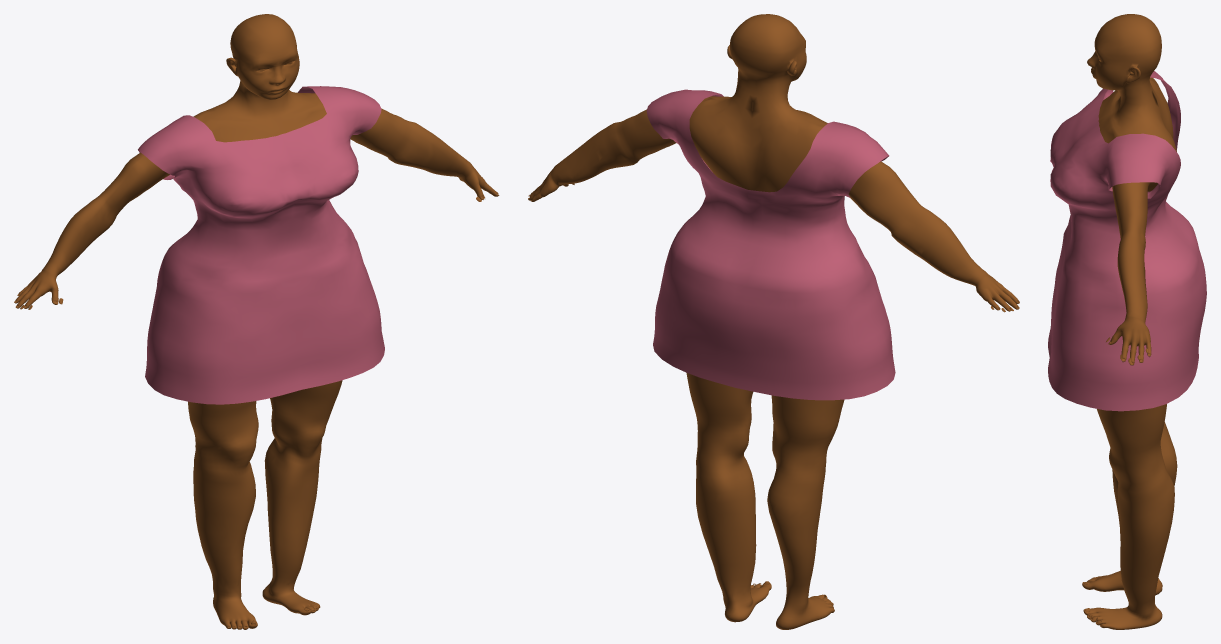
The model's file is dress7.glb.
3 views of the same model, side by side, from view 1: azimuth 30°, elevation 25°; view 2: azimuth 150°, elevation 25°; view 3: azimuth 270°, elevation 25° (orthographic).
Visible parts, largest first — view 1: Jennifer.F_Dress_01, Body; view 2: Body, Jennifer.F_Dress_01; view 3: Jennifer.F_Dress_01, Body.
Part boxes in pixels (left/top/right/bottom): Jennifer.F_Dress_01: left=138, top=86, right=384, bottom=404; Body: left=14, top=14, right=499, bottom=629; Body: left=528, top=14, right=1019, bottom=629; Jennifer.F_Dress_01: left=646, top=89, right=895, bottom=400; Jennifer.F_Dress_01: left=1048, top=71, right=1206, bottom=411; Body: left=1082, top=14, right=1177, bottom=629.
Size of the model in its own units: 1.6 by 1.88 by 0.4539.
